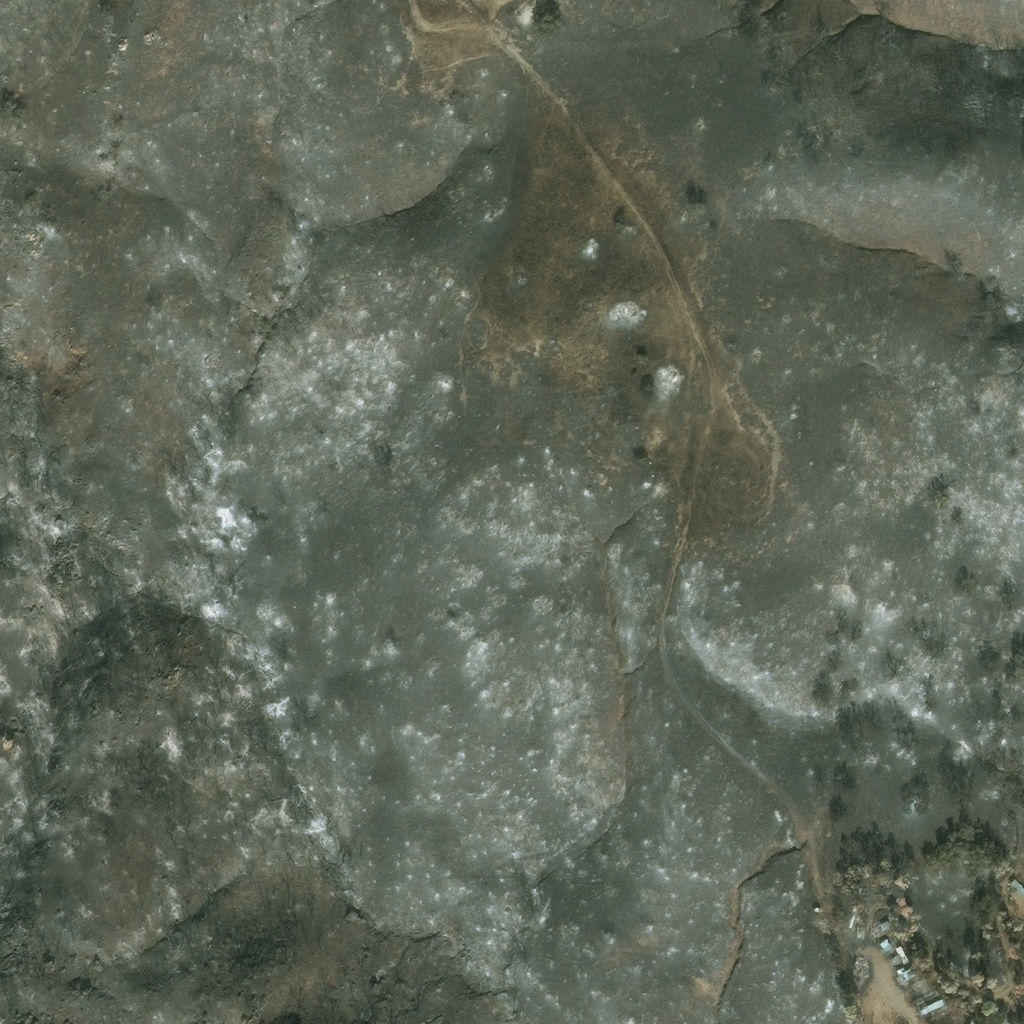0 no-damage: (911, 997, 944, 1019), (908, 976, 929, 997)
1 minor-damage: (888, 946, 909, 970), (893, 968, 912, 985), (1007, 877, 1023, 897)
3 destroyed: (871, 920, 894, 951), (856, 959, 869, 978), (856, 925, 864, 937), (835, 873, 842, 885), (813, 908, 822, 915)
4 un-classified: (454, 0, 467, 8)
